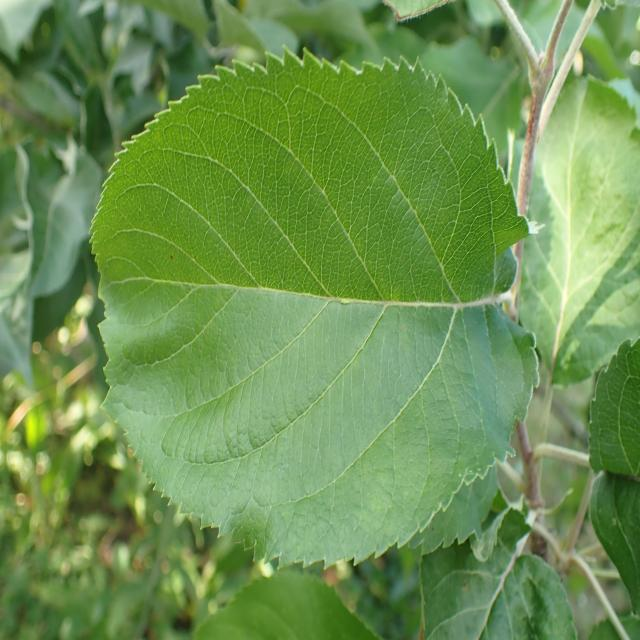healthy: (89, 44, 544, 568), (515, 71, 640, 387), (419, 507, 578, 639), (587, 336, 640, 618), (192, 571, 380, 640)
